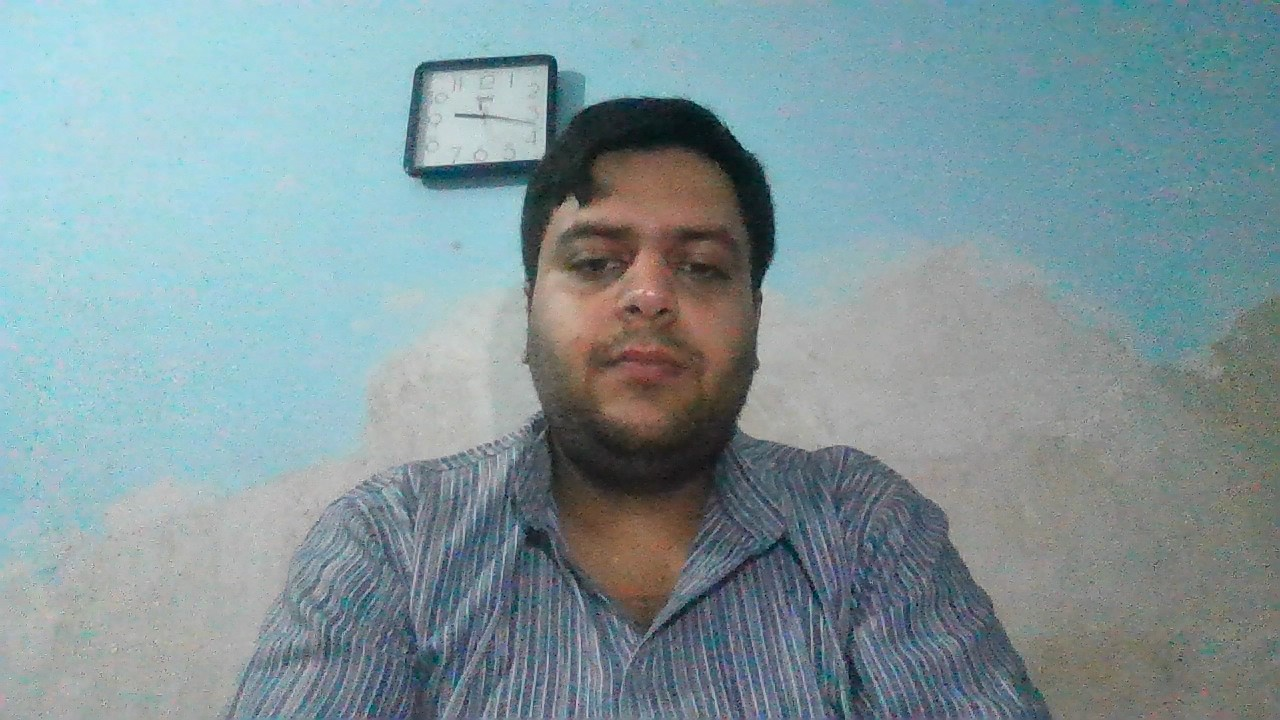No Mask: (515, 280, 769, 463)
